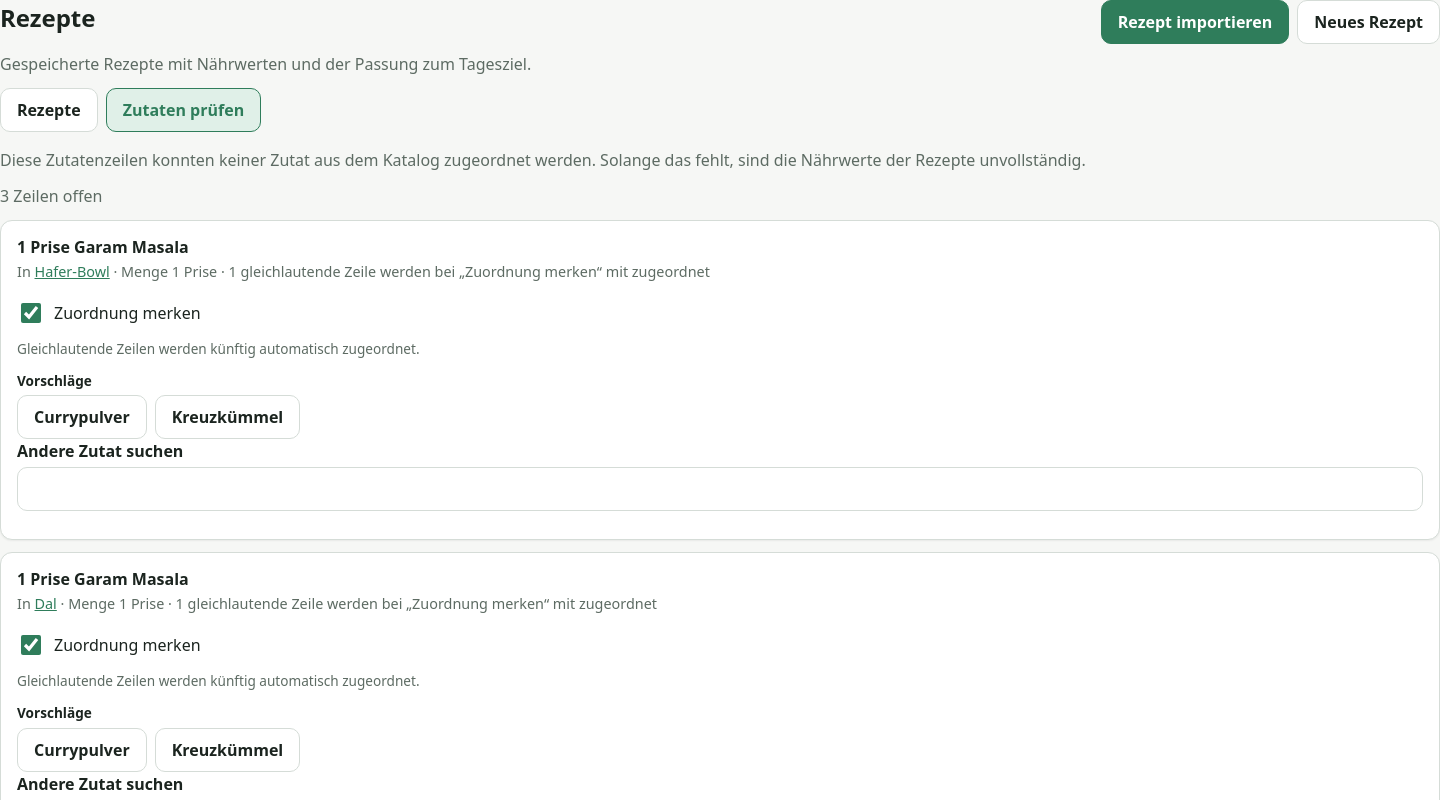
Scenario: Zutaten prüfen › ordnet per Vorschlag zu (merken ist Standard); gleichlautende Zeilen verschwinden
Expected: the 1st checkbox labelled "Zuordnung merken" is checked, [21,303,41,323]
What coordinates should you click on to do the following:
click the button with aria-label "Vorschlag Currypulver zuordnen"
I would click on:
 (82, 417)
Its box is [17,395,147,439].
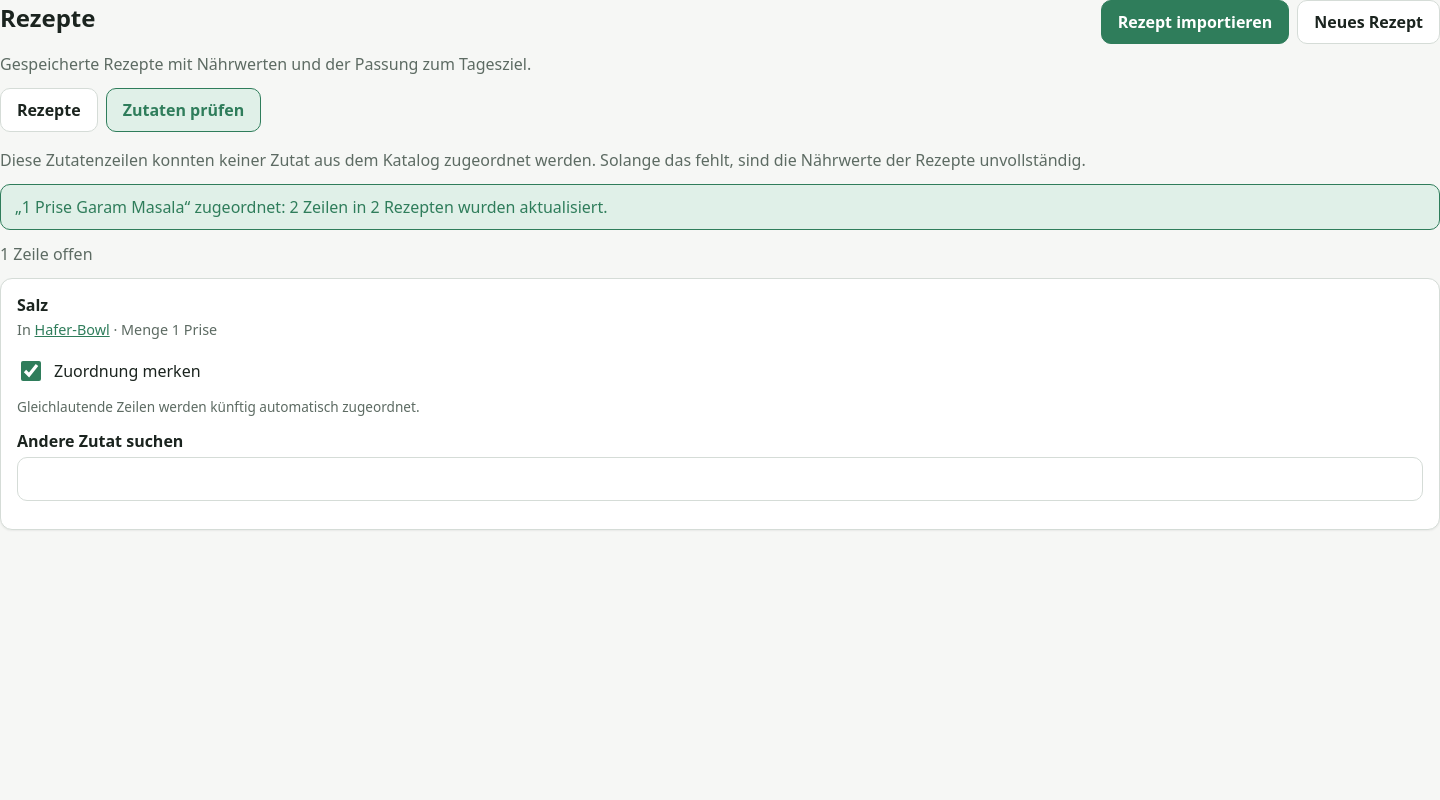
Expected: the text "„1 Prise Garam Masala“ zugeordnet: 2 Zeilen in 2 Rezepten wurden aktualisiert." is shown, [0,184,1439,230]
Expected: the number of list items is 1, [0,278,1439,530]
Expected: the text "1 Zeile offen" is shown, [0,243,92,265]
